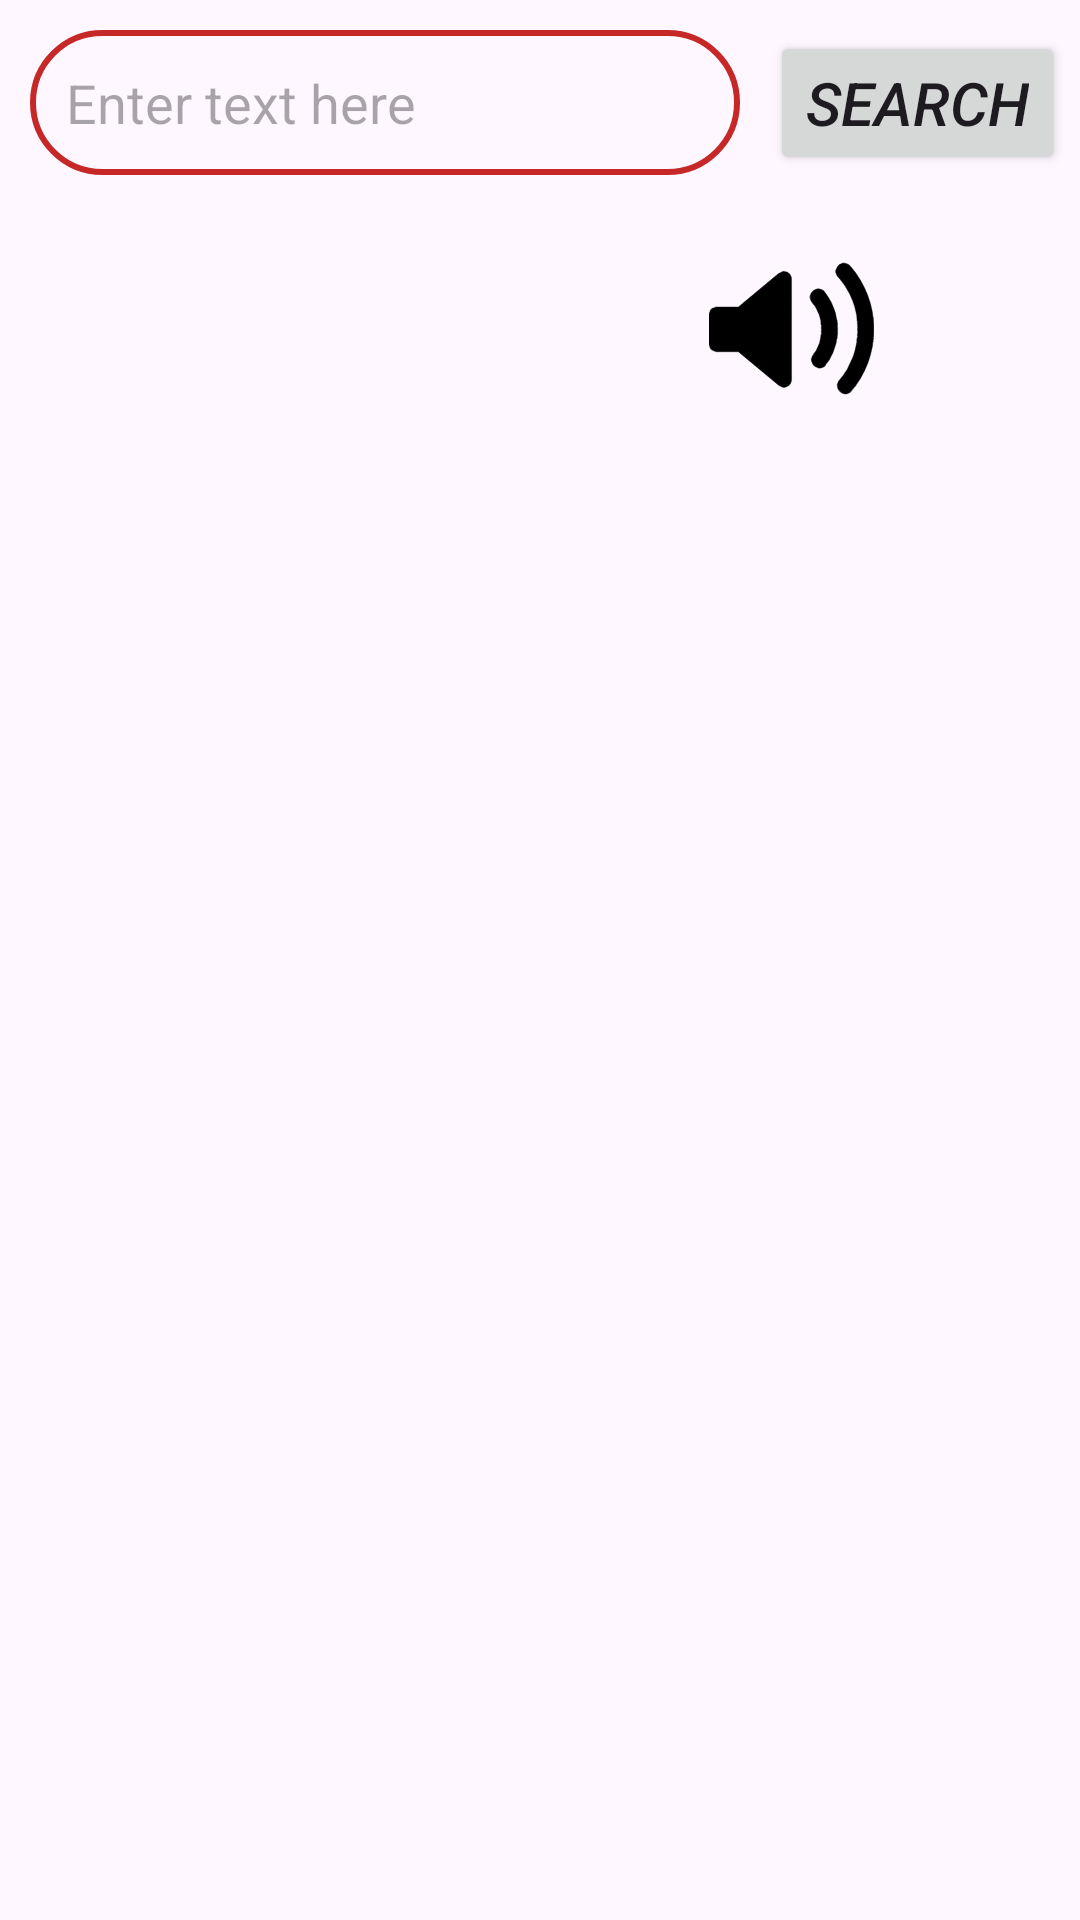

Named icons in this screenshot (1080px×1920px) and their bounding boxes, (x1, y1, x2, y2):
volumeicon: (709, 262, 874, 395)
